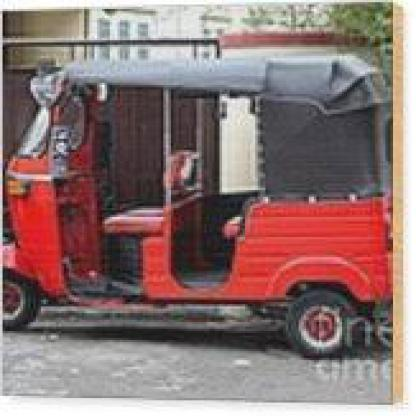tuk: (5, 49, 385, 356)
